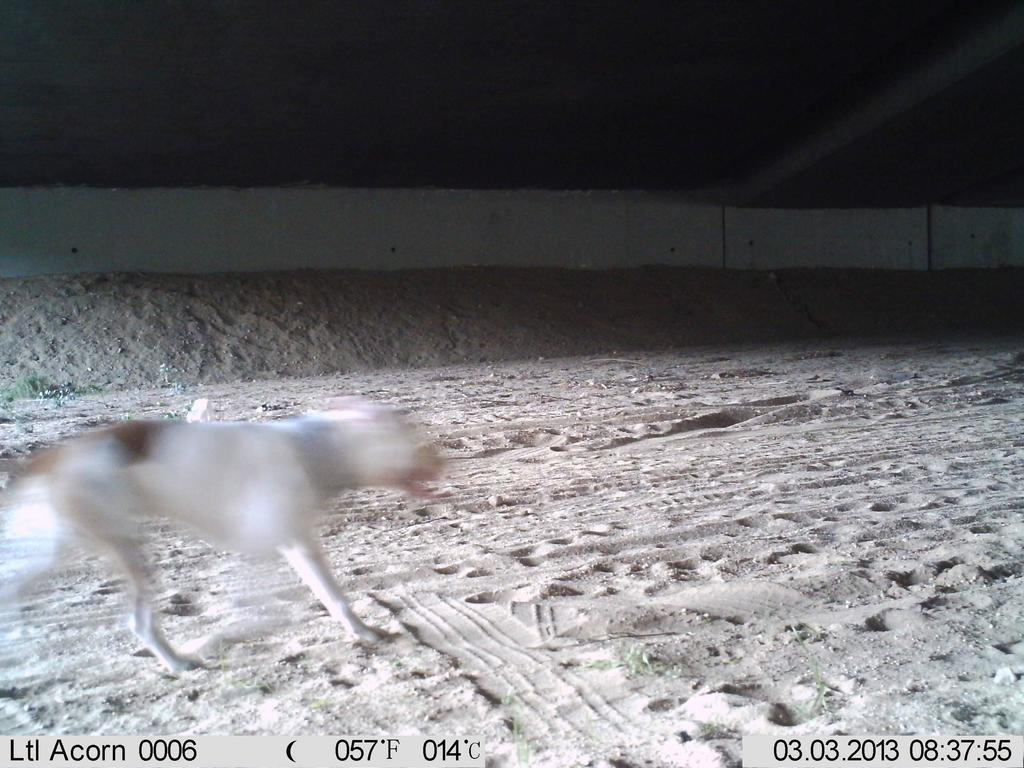dog: (2, 383, 463, 687)
